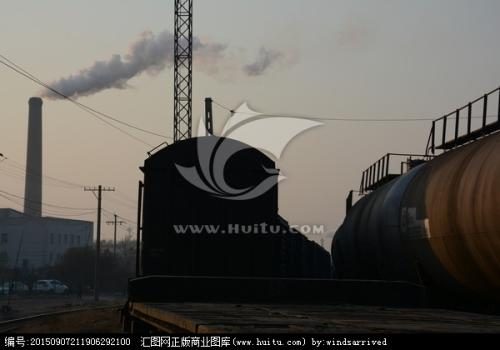smoke: (32, 33, 275, 93)
